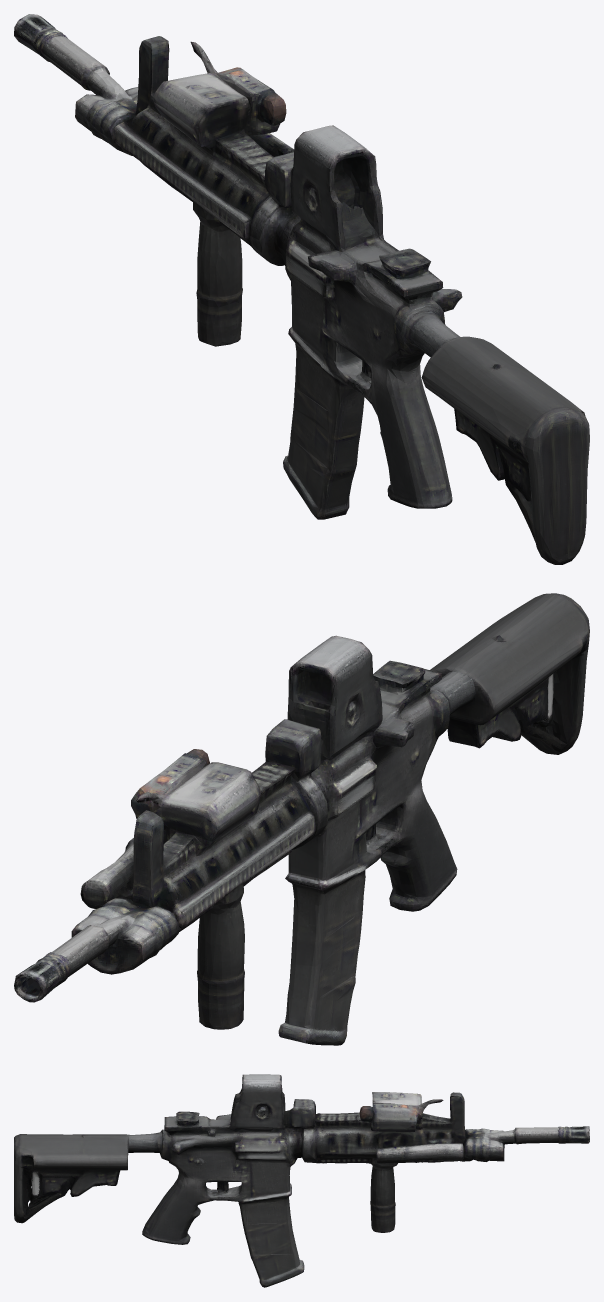
Rendered from rifle.glb.
3 renders of one model, top to bottom at view 1: azimuth 30°, elevation 25°; view 2: azimuth 150°, elevation 25°; view 3: azimuth 270°, elevation 25°, orthographic. The views are drawn at different scales.
Visible parts, largest first — view 1: world; view 2: world; view 3: world.
Boxes of the visible parts, x1,y1,x2,y2 form: world: [14, 14, 589, 564]; world: [14, 593, 589, 1045]; world: [14, 1074, 589, 1287].
Size of the model in its own units: 0.1314 by 0.3972 by 1.
Materials: 1 (1 with a texture image).
